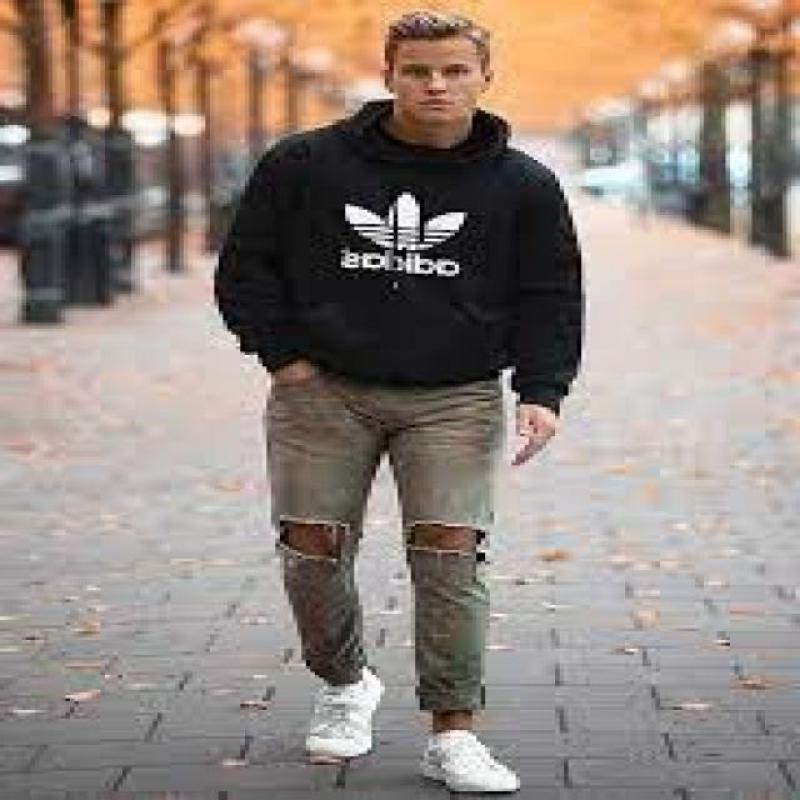sweater: (211, 95, 593, 417)
trousers: (262, 367, 507, 715)
